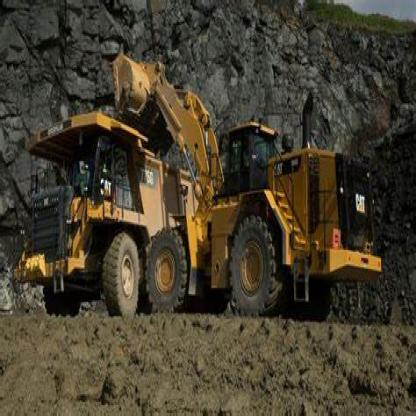bull_dozer/loader/grader: (109, 50, 388, 319)
